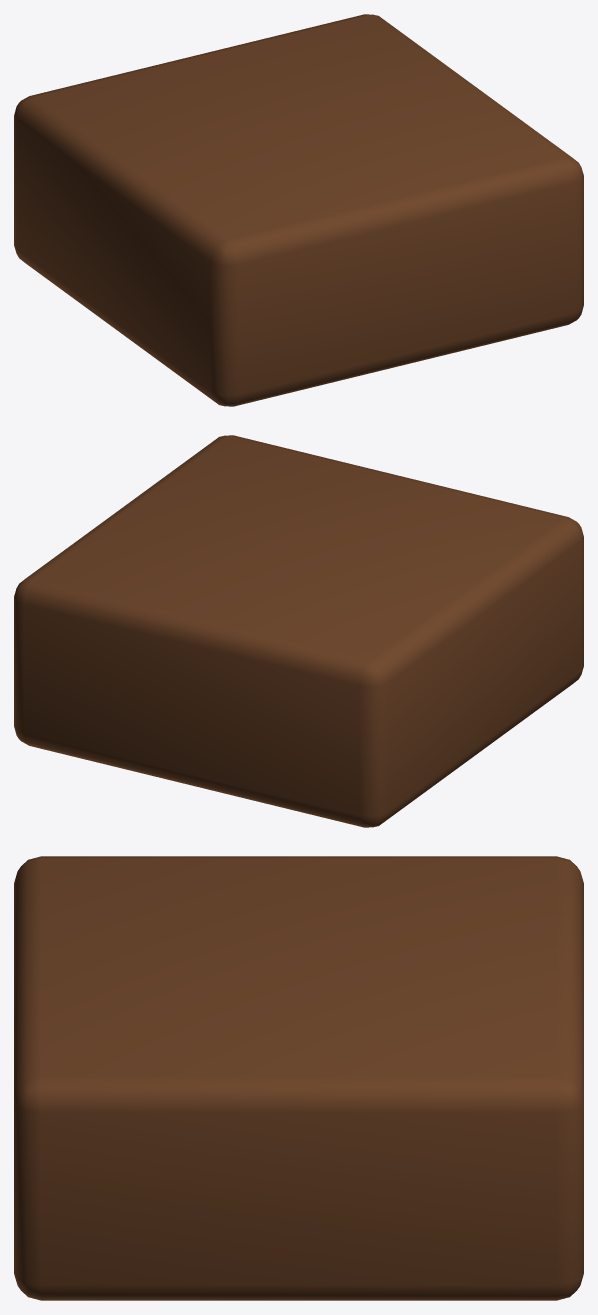
Rendered from home.garden.hot_tub.glb.
3 views of the same model, one above another, from view 1: azimuth 30°, elevation 25°; view 2: azimuth 150°, elevation 25°; view 3: azimuth 270°, elevation 25° (orthographic). The views are drawn at different scales.
Visible parts, largest first — view 1: main__hardwood; view 2: main__hardwood; view 3: main__hardwood.
Part boxes in pixels (bbox=[...]): main__hardwood: bbox=[14, 14, 583, 406]; main__hardwood: bbox=[14, 435, 583, 827]; main__hardwood: bbox=[14, 856, 583, 1300].
Size of the model in its own units: 2.1 by 0.9 by 2.1.
